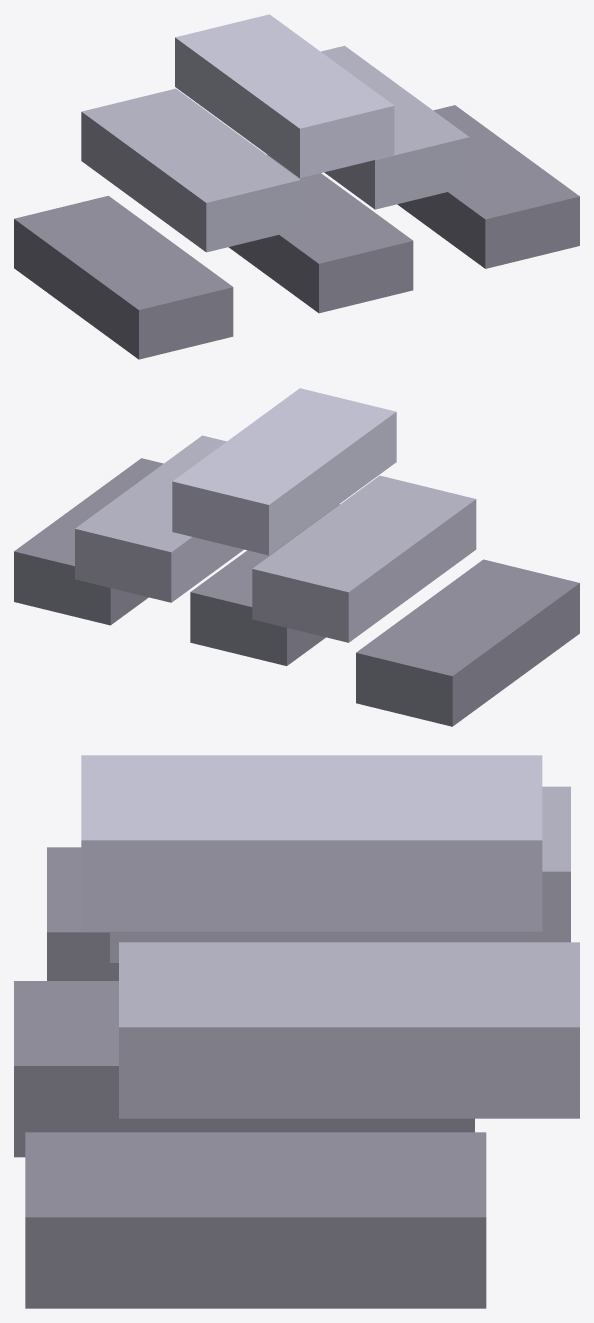
Rendered from Iron.dae.
3 views of the same model, one above another, from view 1: azimuth 30°, elevation 25°; view 2: azimuth 150°, elevation 25°; view 3: azimuth 270°, elevation 25° (orthographic). The views are drawn at different scales.
Visible parts, largest first — view 1: Cube_003, Cube_004, Cube_005, Cube_001, Cube, Cube_002; view 2: Cube_005, Cube_004, Cube_003, Cube_002, Cube_001, Cube; view 3: Cube_001, Cube_005, Cube_002, Cube, Cube_004, Cube_003.
Boxes of the visible parts, x1,y1,x2,y2 form: Cube_003: (14,195,233,359); Cube_004: (81,88,300,252); Cube_005: (175,14,394,177); Cube_001: (397,105,579,268); Cube: (228,154,413,313); Cube_002: (321,45,469,209); Cube_005: (172,388,396,555); Cube_004: (252,475,476,642); Cube_003: (356,559,579,726); Cube_002: (75,435,243,602); Cube_001: (14,458,163,625); Cube: (190,504,339,665); Cube_001: (25,1132,486,1308); Cube_005: (81,755,542,931); Cube_002: (119,942,579,1118); Cube: (14,981,474,1157); Cube_004: (110,786,570,962); Cube_003: (47,847,118,980).
Size of the model in its own units: 0.9688 by 0.591 by 0.3881.
